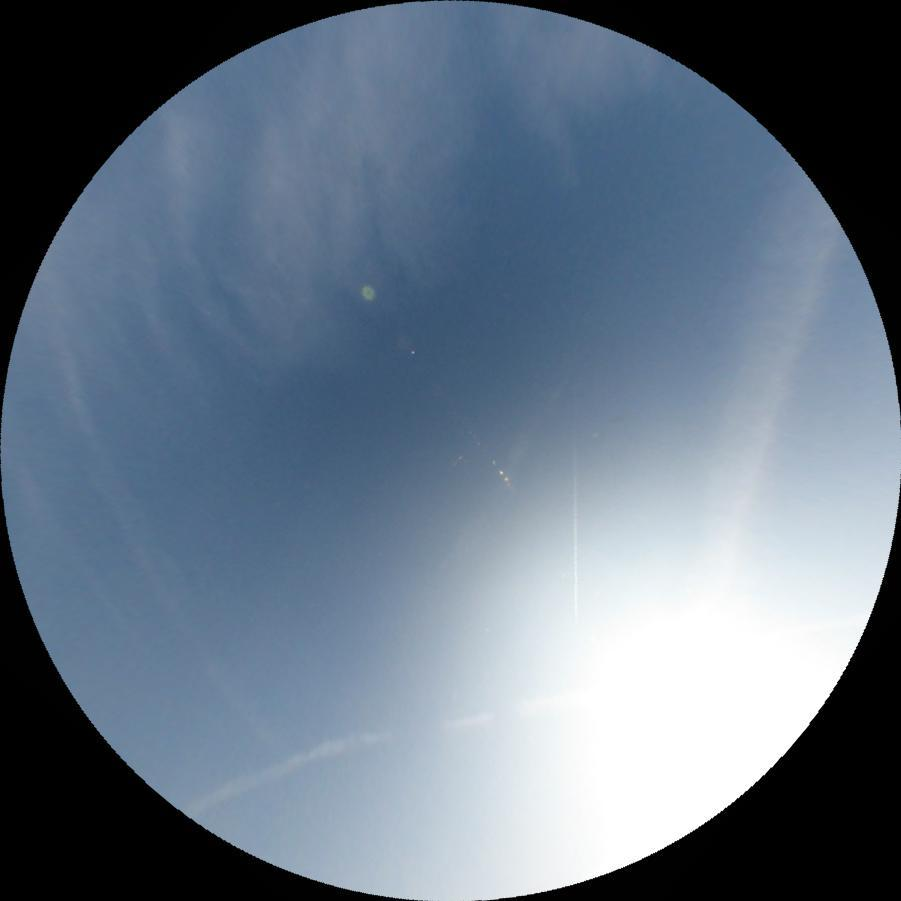contrail old: (176, 688, 501, 820)
contrail veryold: (23, 340, 287, 747), (669, 177, 850, 608)
contrail young: (571, 432, 578, 622)
sun: (564, 553, 841, 827)
